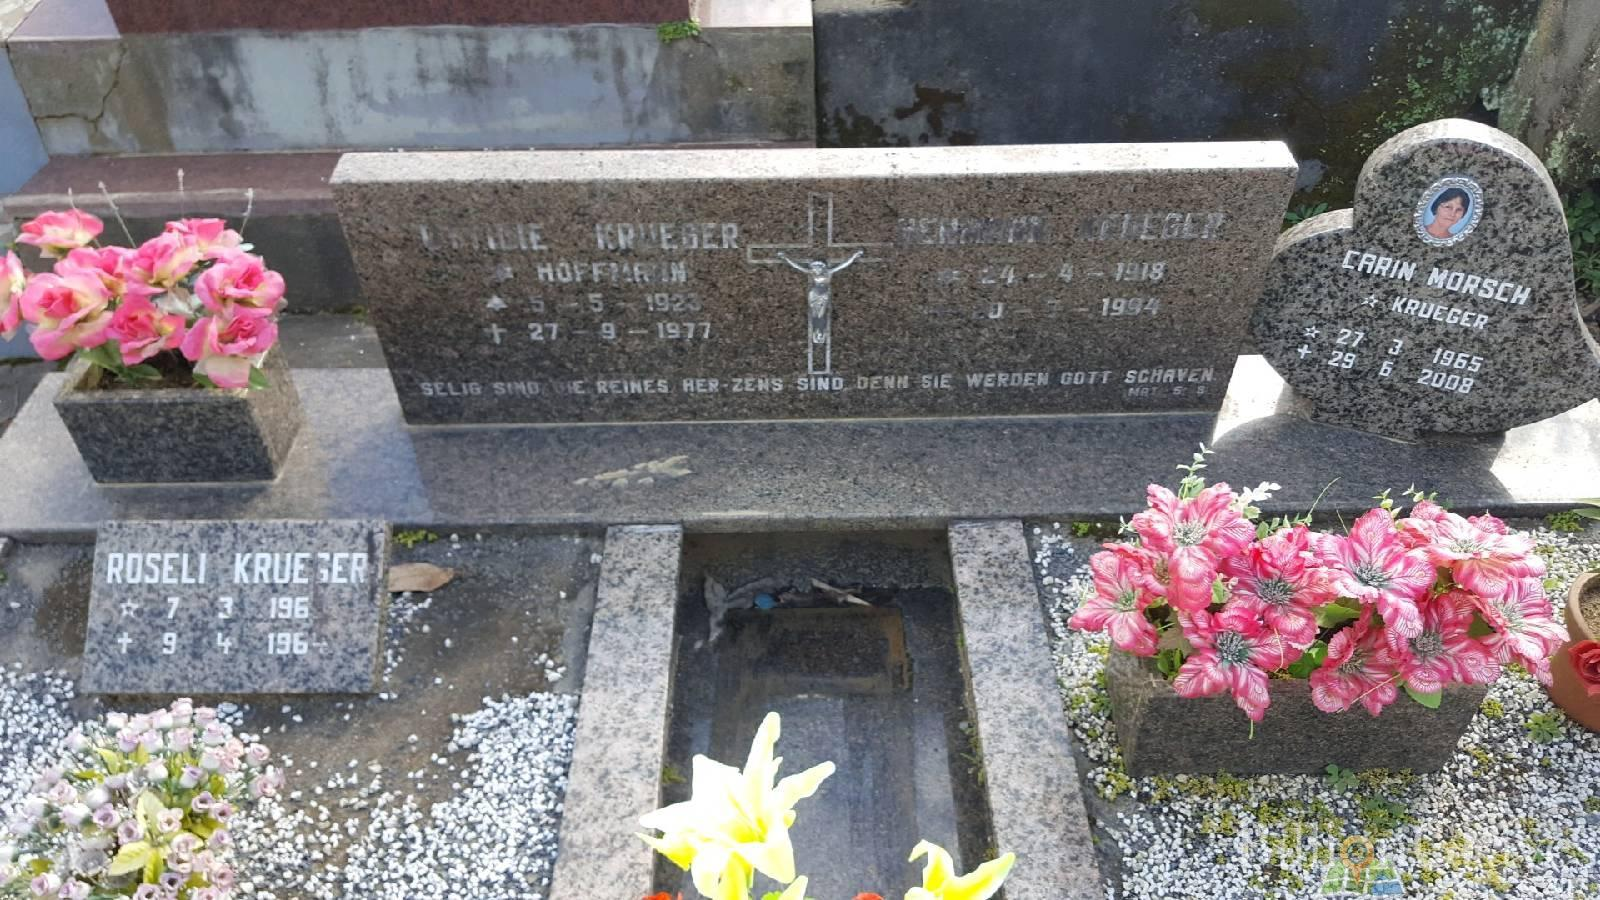upright: (327, 141, 1285, 430)
